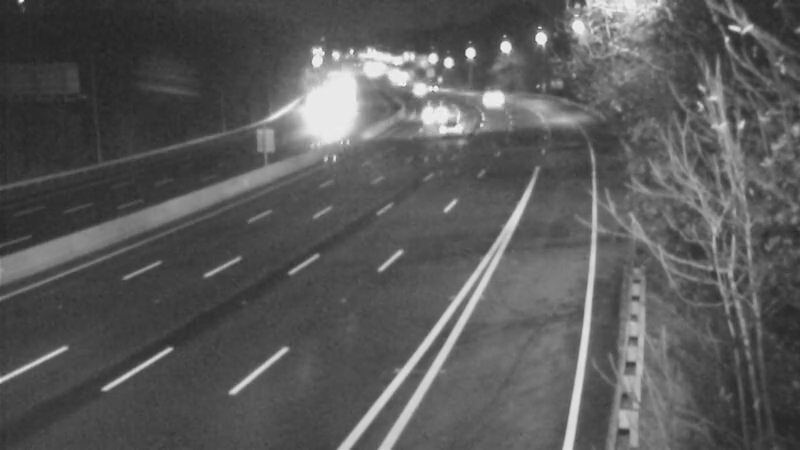vehicle: (461, 75, 511, 125), (399, 83, 449, 133), (423, 103, 473, 153), (287, 106, 337, 156)
